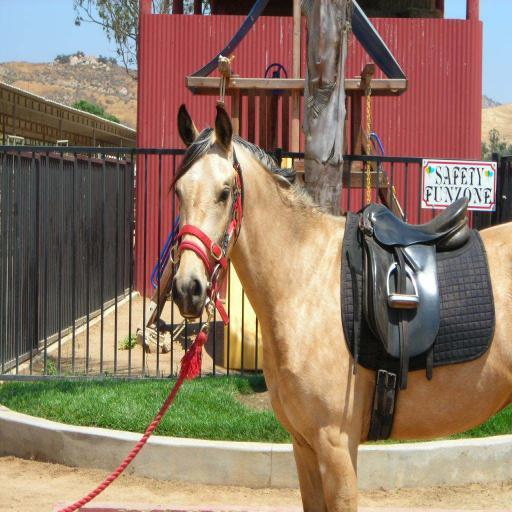horse: (168, 102, 512, 512)
